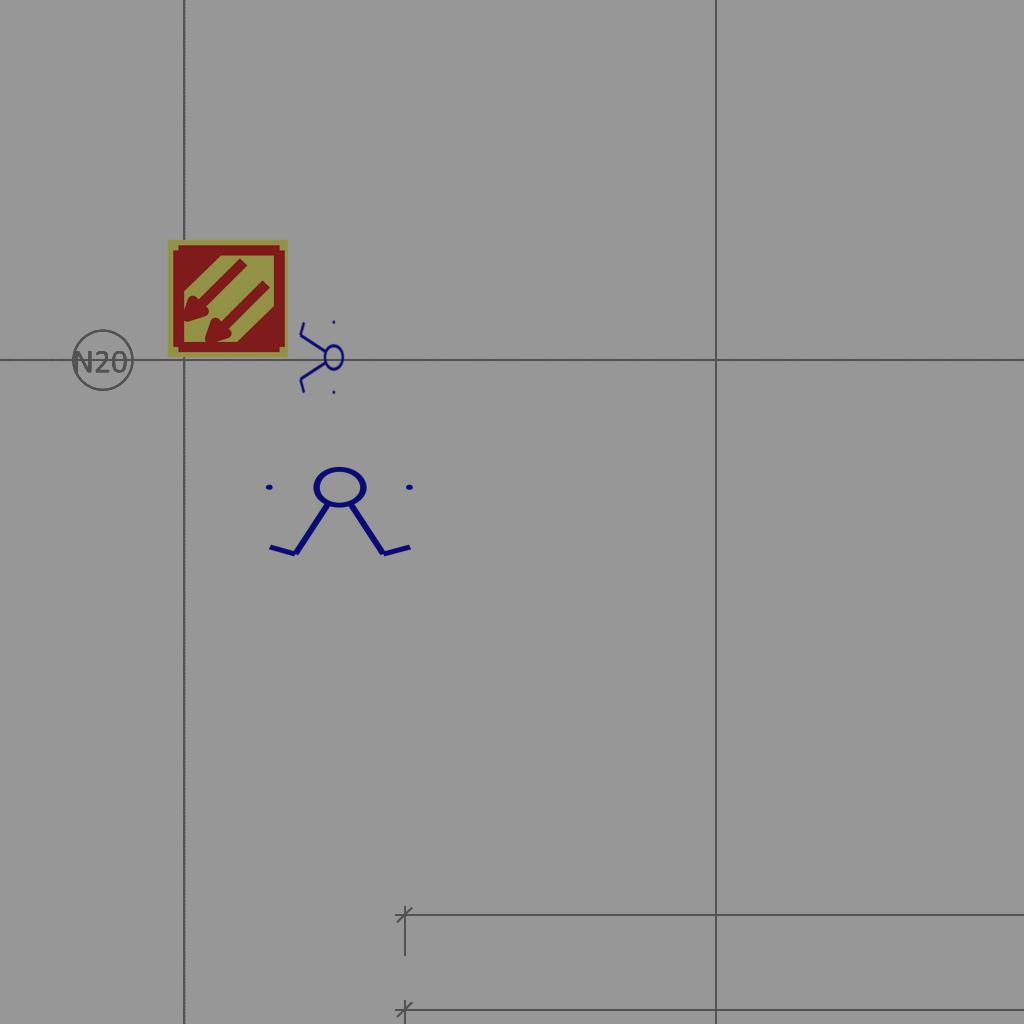ASR_Ansaugrauchmelder: (165, 236, 290, 361)
Serienschalter: (257, 465, 425, 561), (297, 316, 345, 400)
